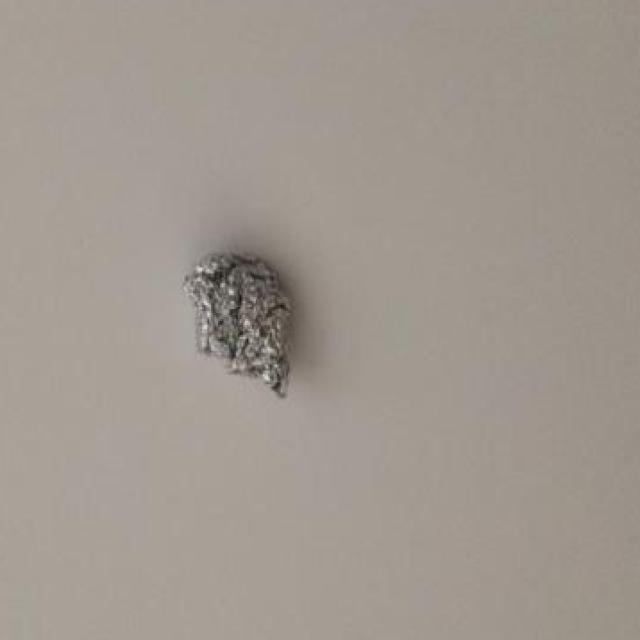organic: (164, 234, 319, 405)
